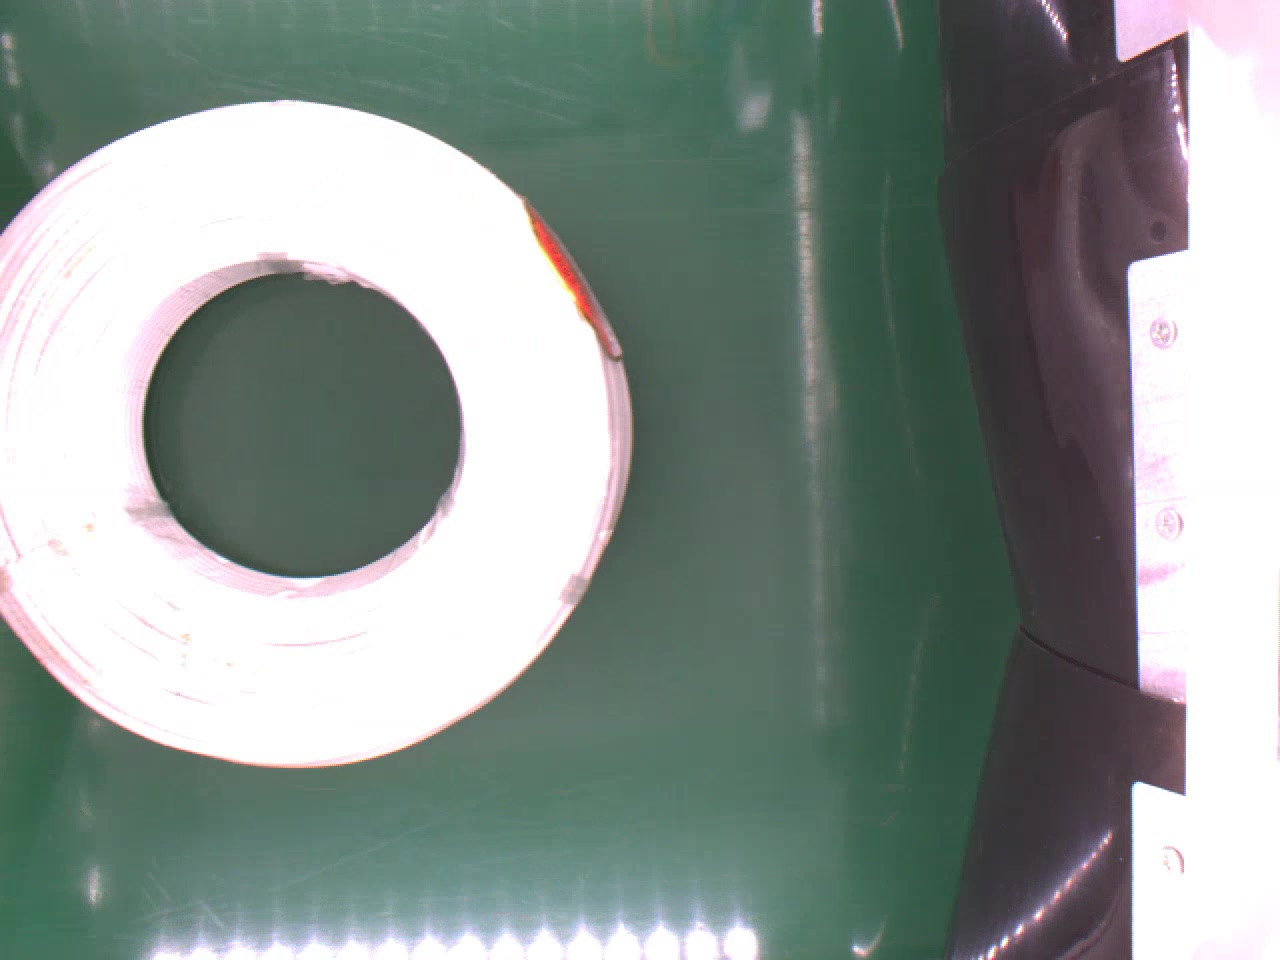white: (0, 94, 637, 777)
